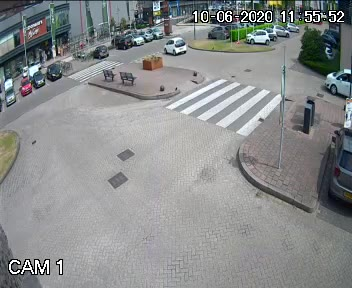car: (320, 62, 352, 102), (160, 34, 190, 56)
